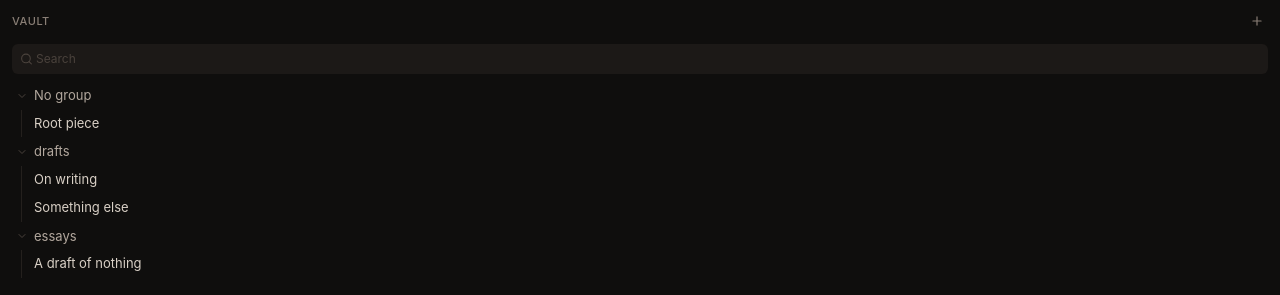
Test: LibraryPanel tree › should keep only the matching document when a group merely contains one
In the search field named "Search documents": (640, 59) [12,44,1268,74], type "draft of"
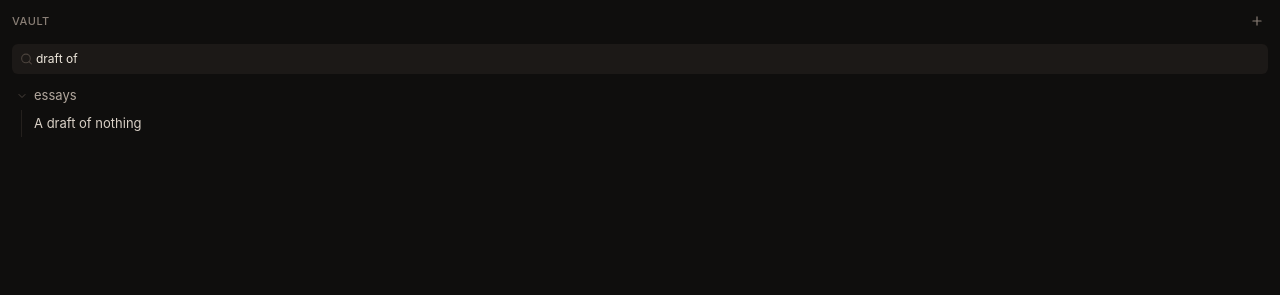
expect the button "A draft of nothing" is shown: met, box [26,110,1272,137]
expect the button "On writing" is gone: met
expect the button "Something else" is gone: met
